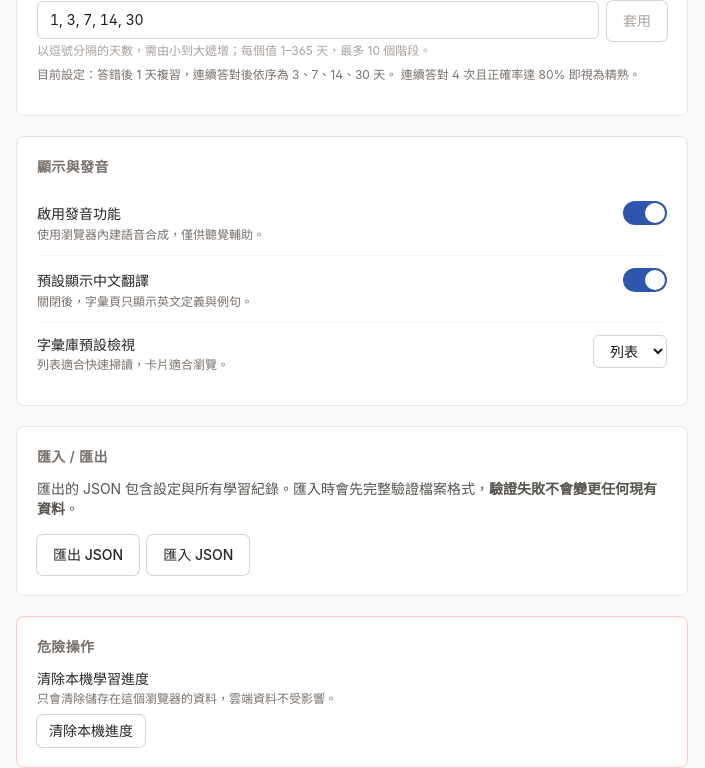
Test case: SettingsPage › lets the user back out of a destructive action
(page scrolled)
What coordinates should you click on to do the following:
click the button "清除本機進度"
I would click on:
 (91, 731)
Its box is [37,715,145,747].
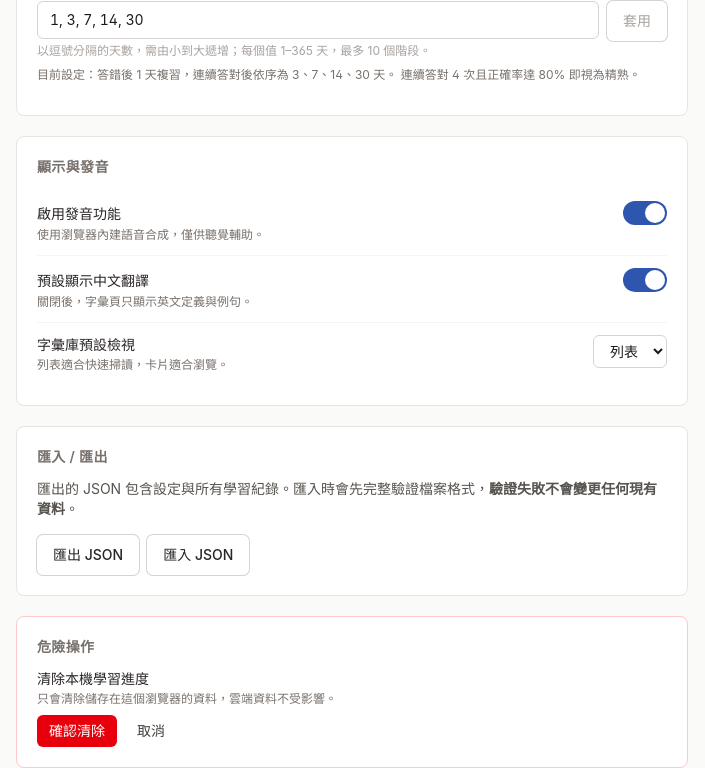
What coordinates should you click on to do the following:
click the button "取消"
I would click on:
 (151, 731)
Its box is [125,715,177,747].
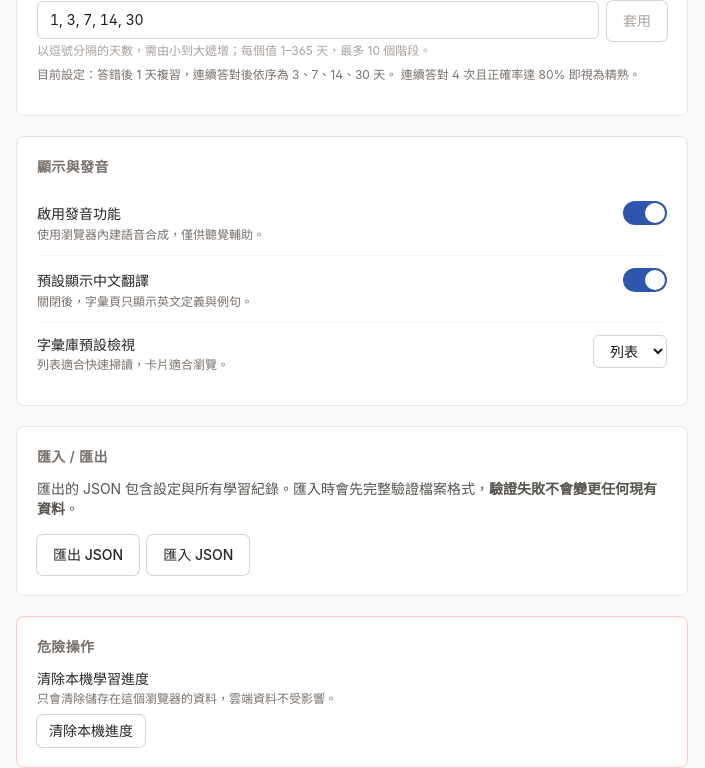
expect the button "確認清除" is gone: met
